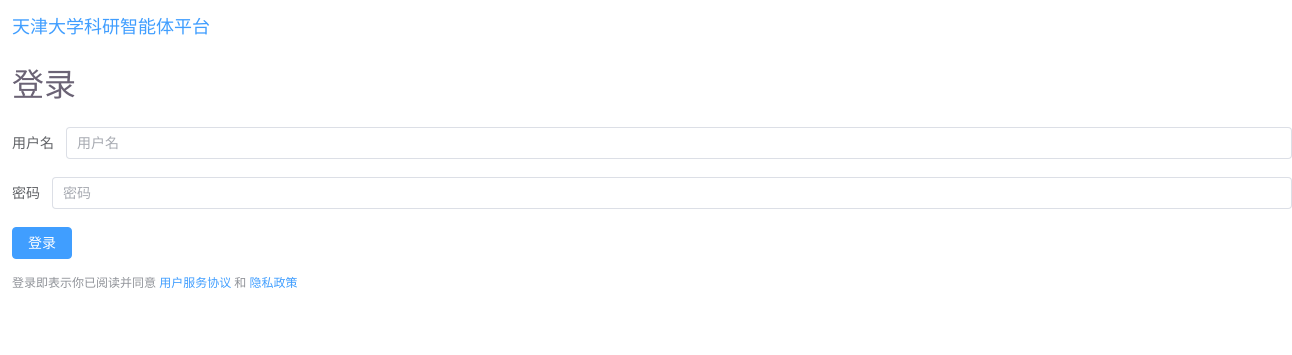
Test: LoginView › 登录网络异常显示登录兜底而非浏览器原始报错文本
Step 1. Type "alice" into the field with placeholder "用户名" → {"x": 679, "y": 143}, box [77, 128, 1281, 158]
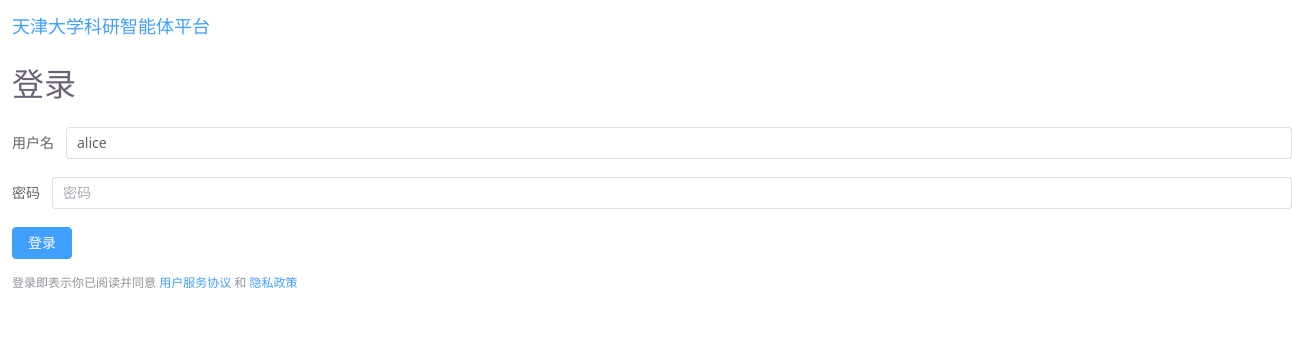
Step 2. Type "pw123456" into the password field with placeholder "密码" → {"x": 672, "y": 193}, box [63, 178, 1281, 208]
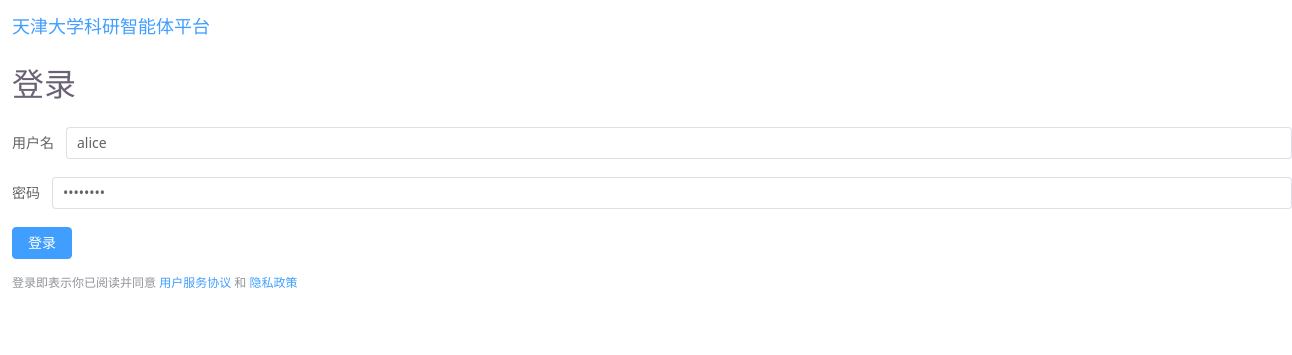
Step 3. Click the button "登录" → {"x": 42, "y": 243}, box [12, 227, 72, 259]
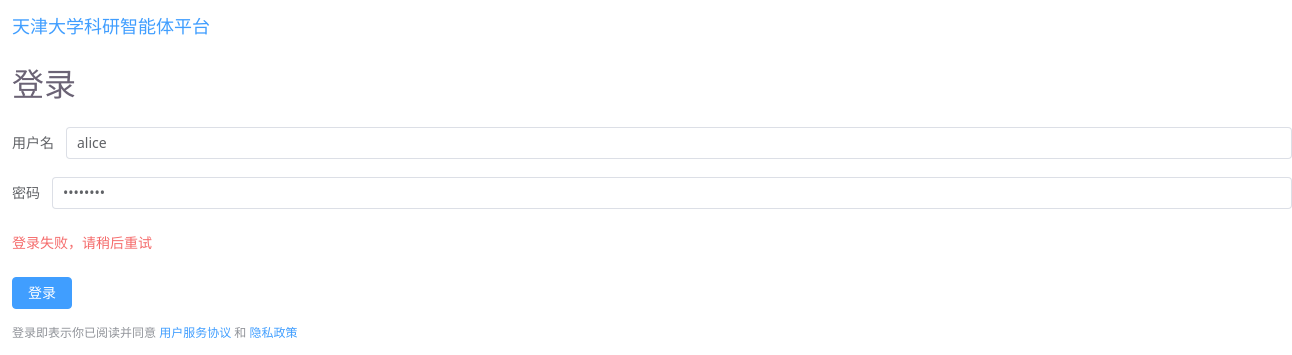
Result: the text "登录失败，请稍后重试" is shown at [12, 233, 152, 252]
